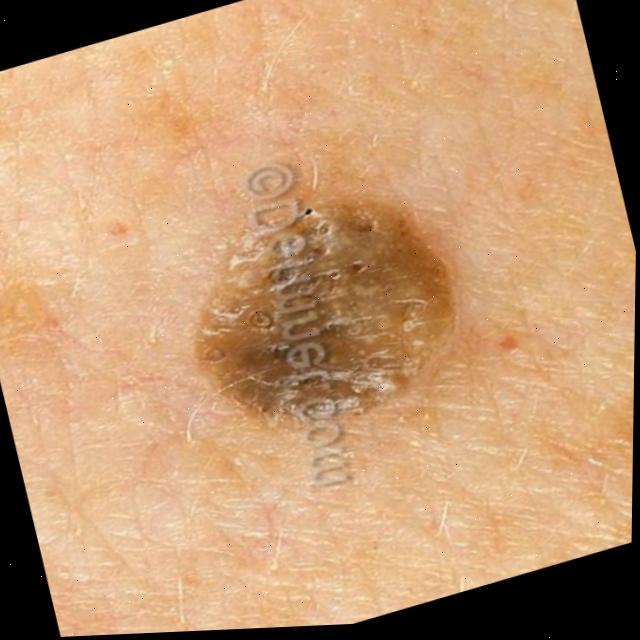Eczema: (206, 155, 412, 407)
